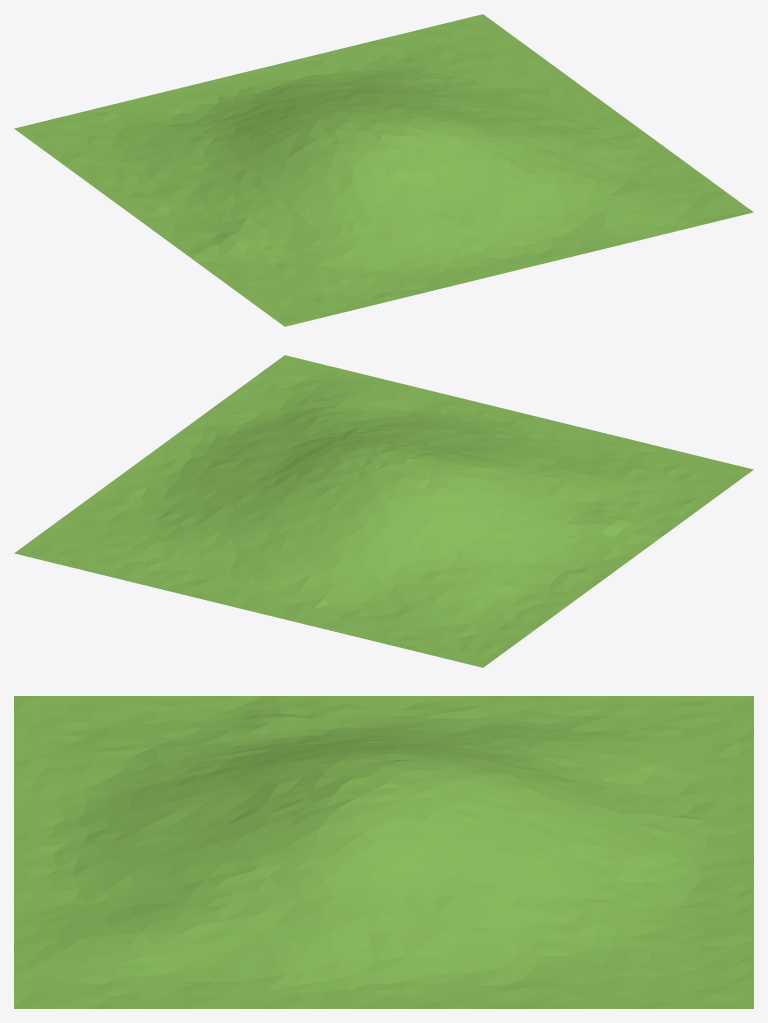
The model's file is MT_Terrain_L_a_08_LOD.fbx.
The picture shows the model from 3 angles, top to bottom: view 1: azimuth 30°, elevation 25°; view 2: azimuth 150°, elevation 25°; view 3: azimuth 270°, elevation 25°; orthographic projection. The views are drawn at different scales.
Visible parts, largest first — view 1: MT_Terrain_L_a_08_LOD0; view 2: MT_Terrain_L_a_08_LOD0; view 3: MT_Terrain_L_a_08_LOD0.
Boxes of the visible parts, x1,y1,x2,y2 form: MT_Terrain_L_a_08_LOD0: (14,14,753,326); MT_Terrain_L_a_08_LOD0: (14,355,753,667); MT_Terrain_L_a_08_LOD0: (14,696,753,1008).
Size of what is drawn, in the model's own units: 10000 by 994 by 10000.
